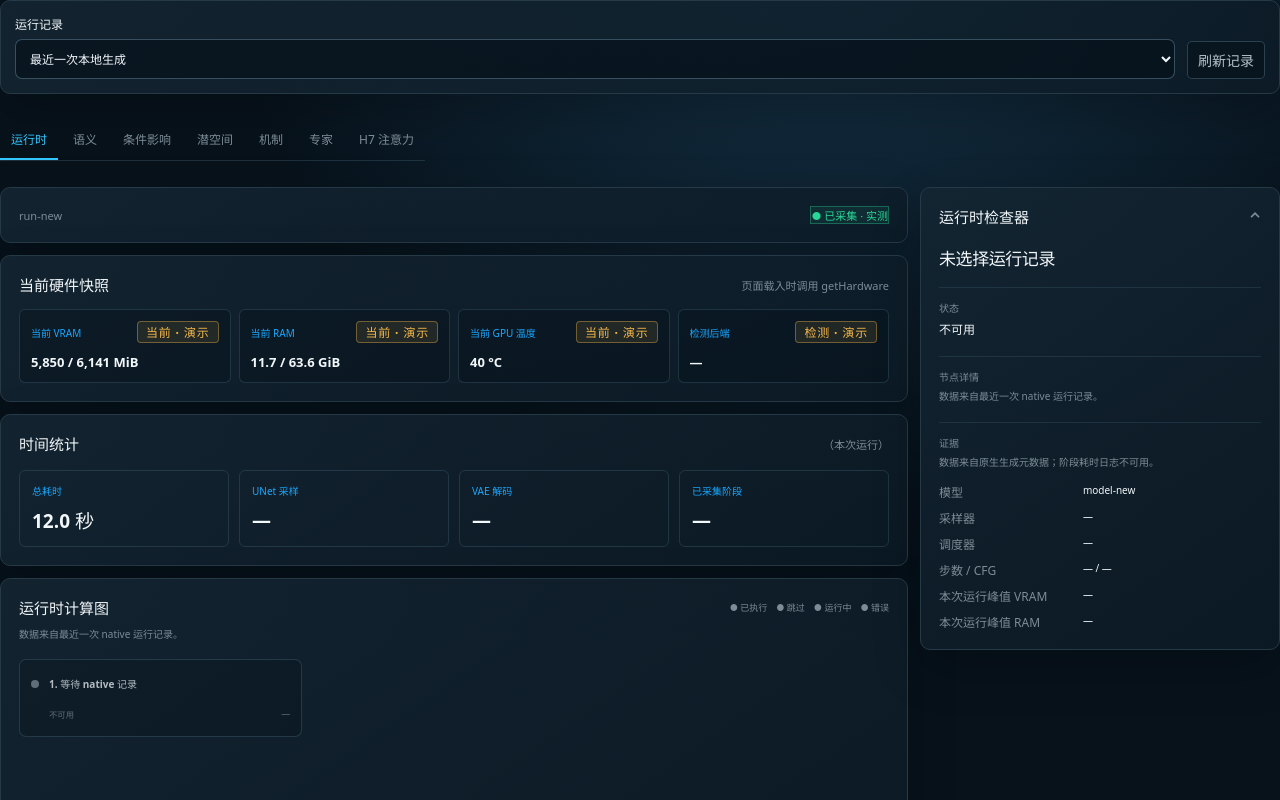
Scenario: Microscope page › switches between real runtime records instead of pinning the latest run
Click the tab "H7 注意力" at (387, 140), box [348,120,425,160]
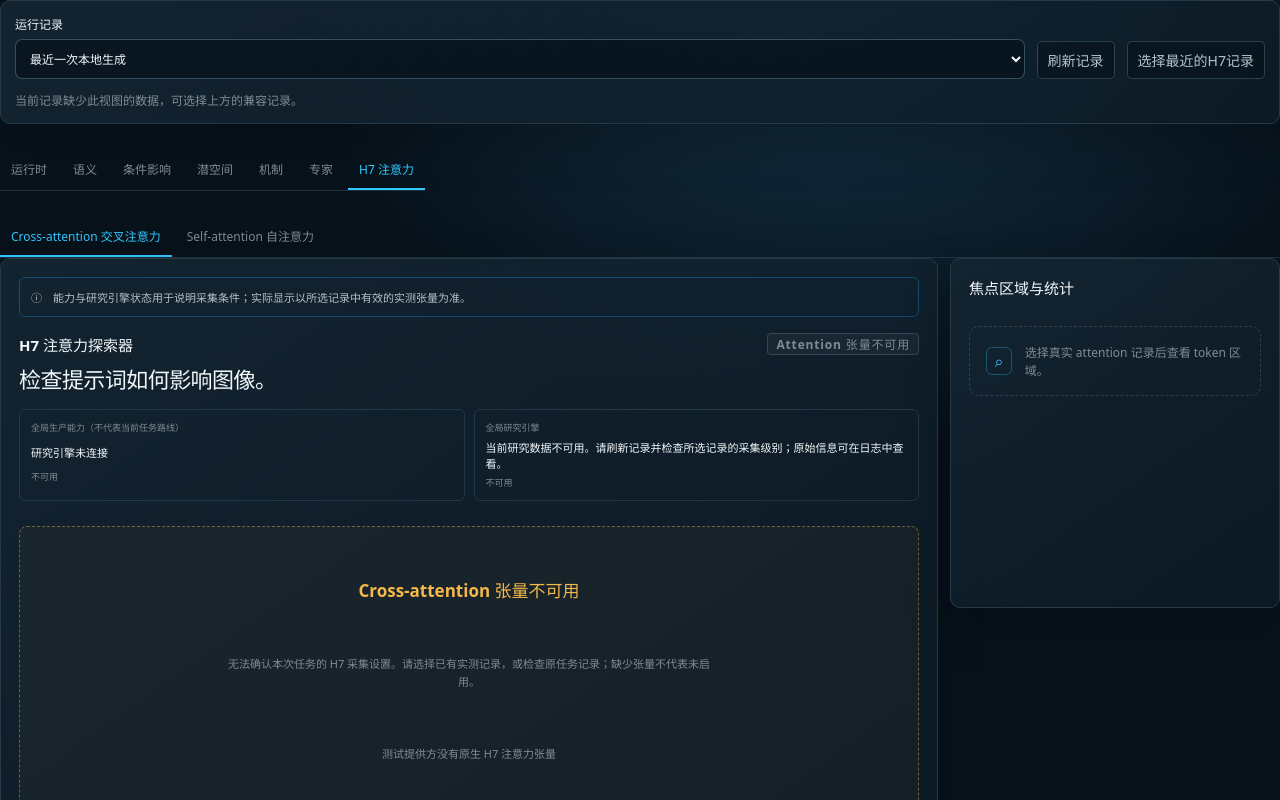
expect the dropdown named "选择运行记录" is shown: met, box [15,39,1025,79]
Click the button "选择最近的H7记录" at (1196, 60), box [1127,41,1265,79]
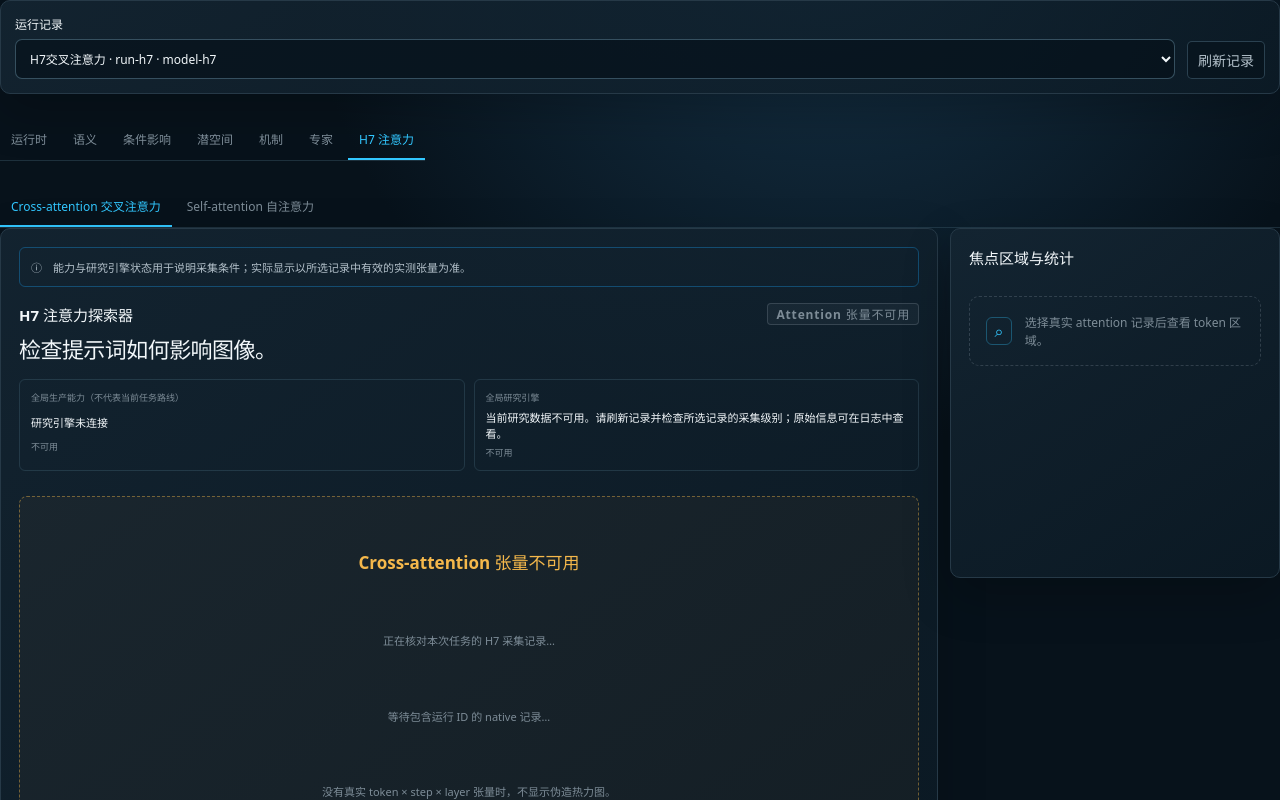
Click the tab "专家" at (321, 140), box [298,120,344,160]
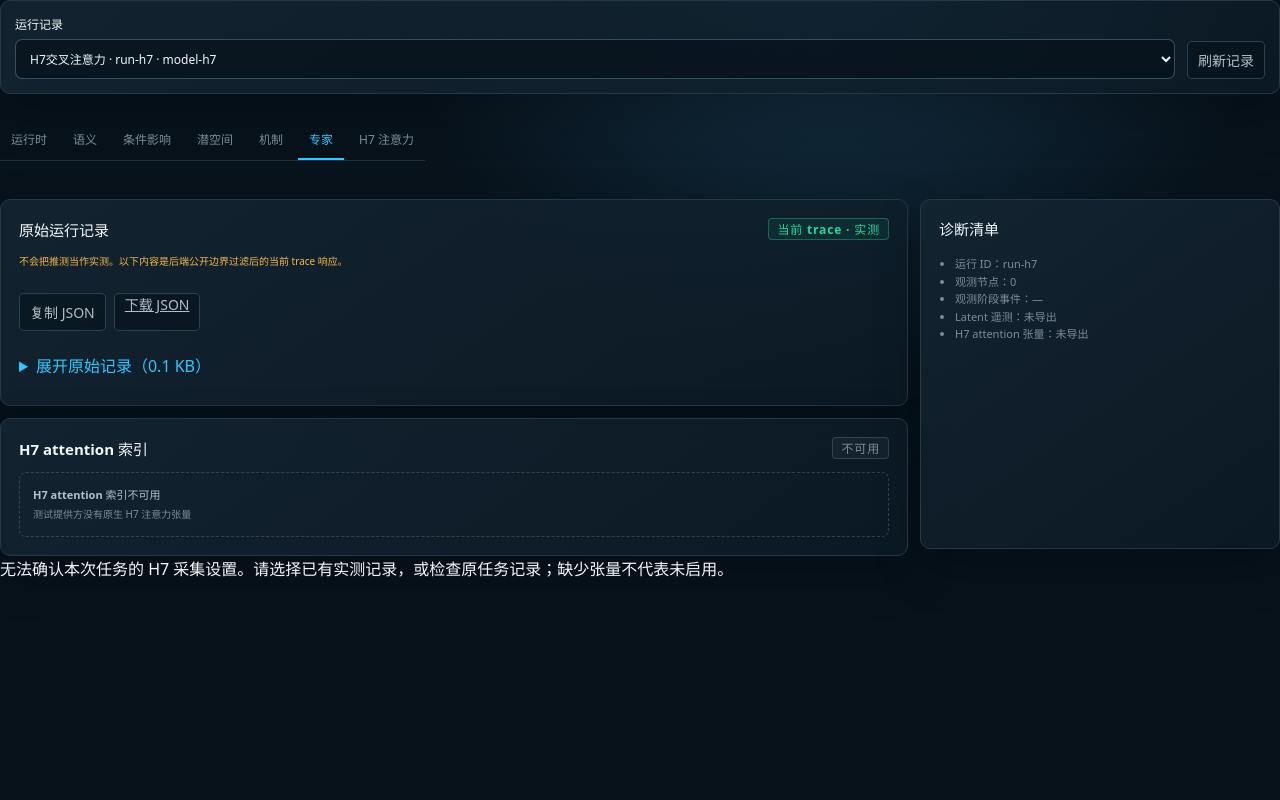
Click the heading "展开原始记录（0.1 KB）" at (123, 366), box [36,355,211,377]
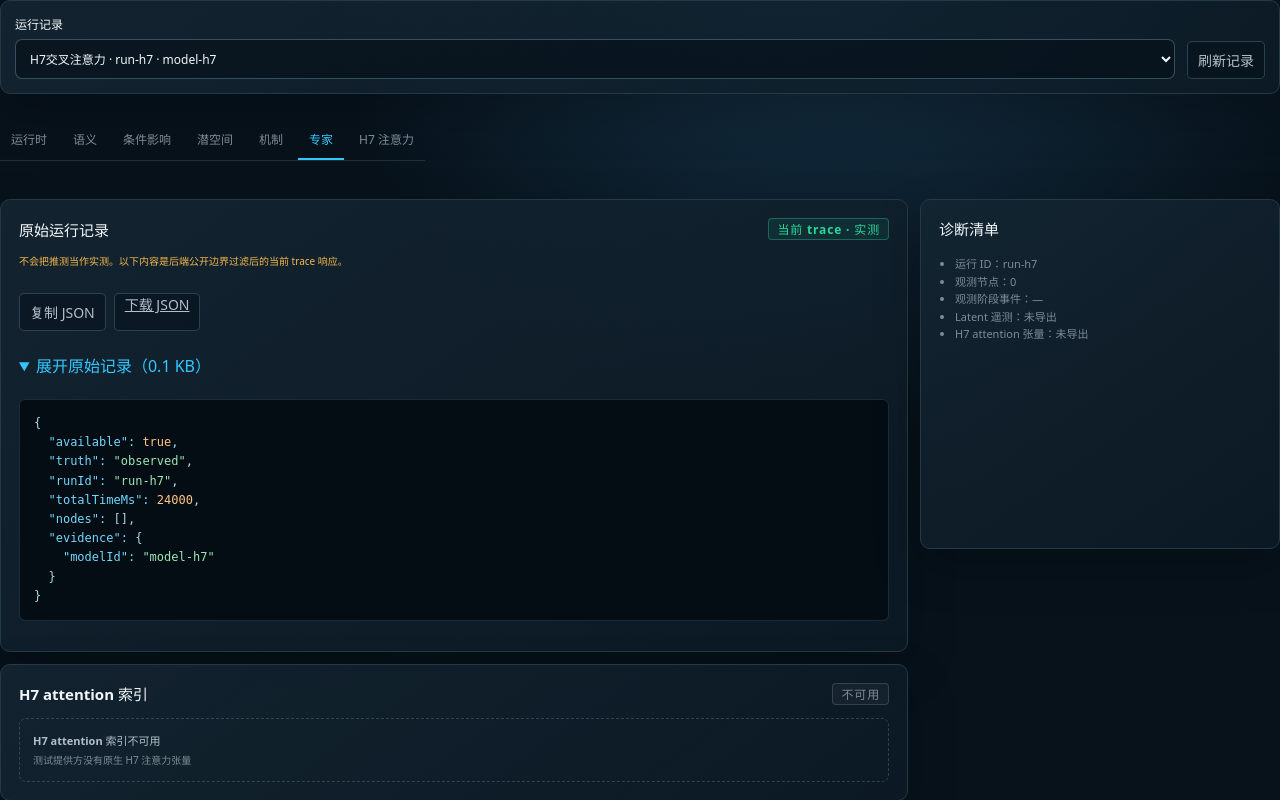
expect the element that starts with "\"available\":" is shown: met, box [19,399,889,621]
